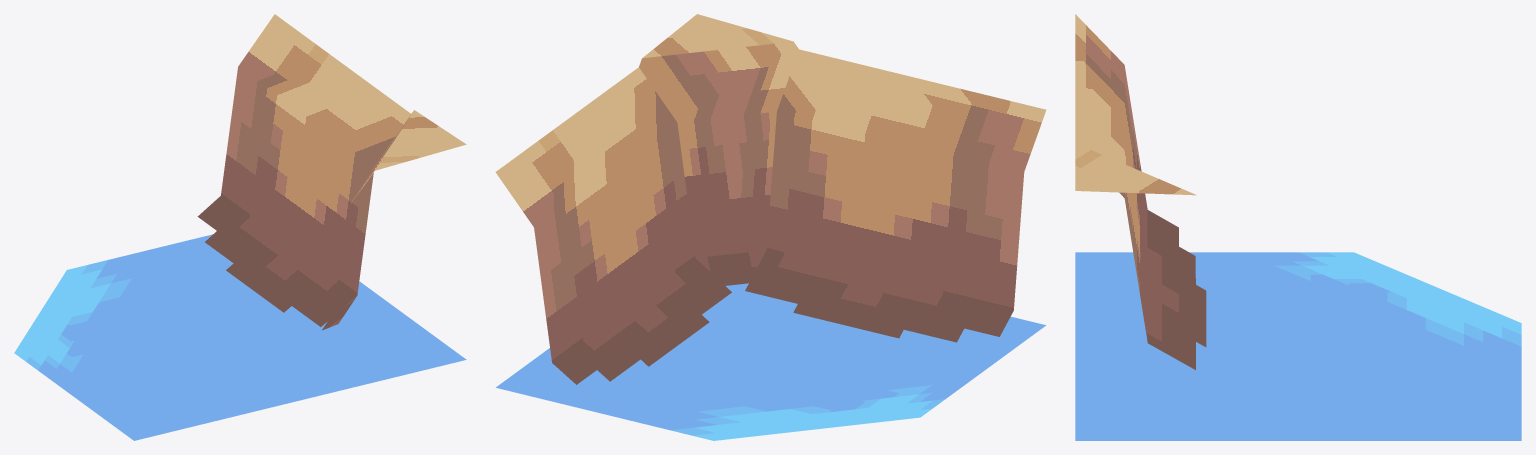
3 views of the same model, side by side, from view 1: azimuth 30°, elevation 25°; view 2: azimuth 150°, elevation 25°; view 3: azimuth 270°, elevation 25° (orthographic). The views are drawn at different scales.
Bounding box in the file's own units: 1 × 0.6183 × 1.
Materials: 2 (2 with a texture image).
